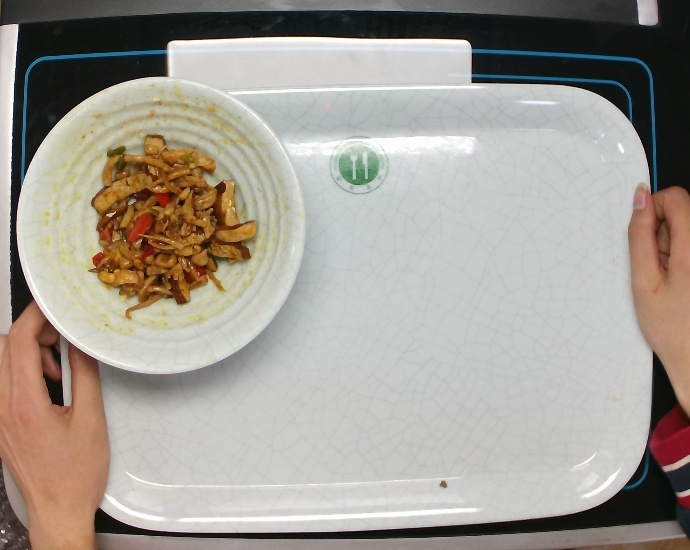JYsf-Xiao_Tang_Wan: (12, 75, 307, 376)
